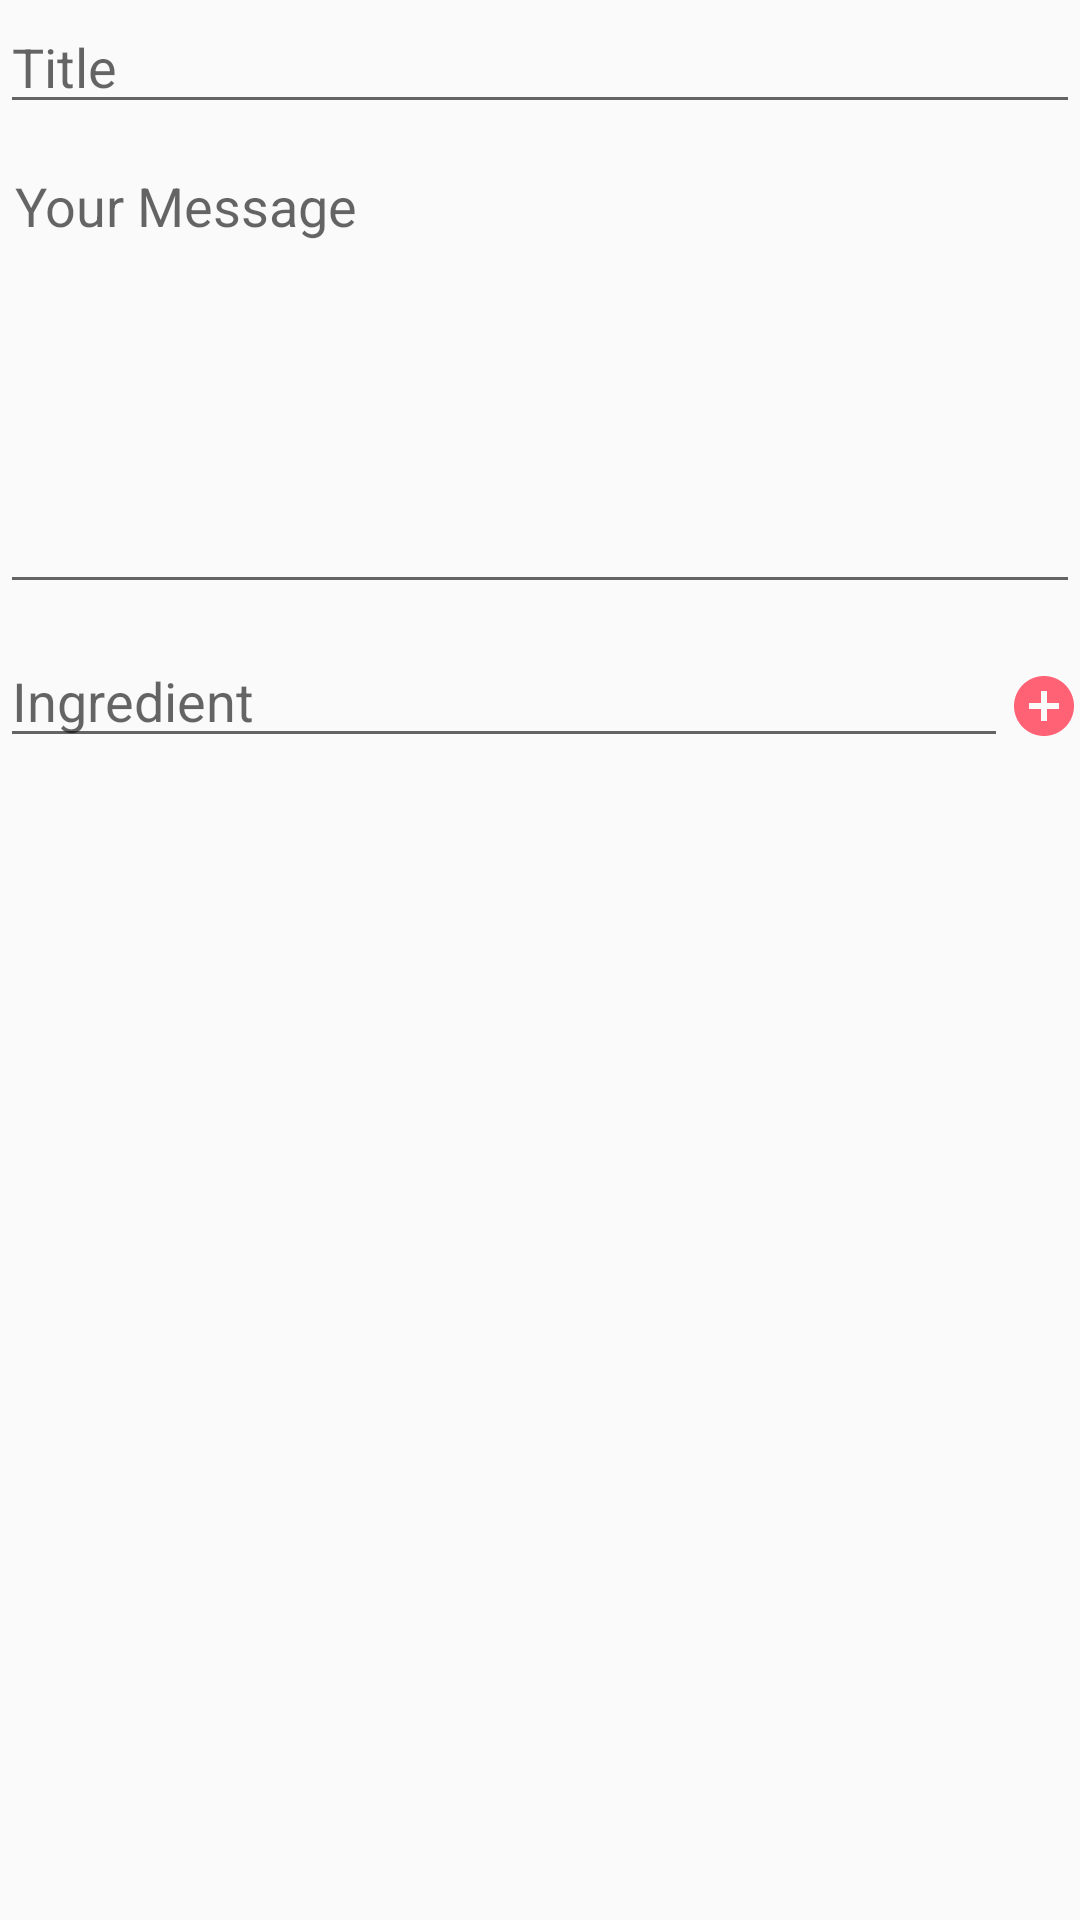

Icon click points for this 1080x1920 phone screenshot, format (x,y):
add full: (1044,706)
